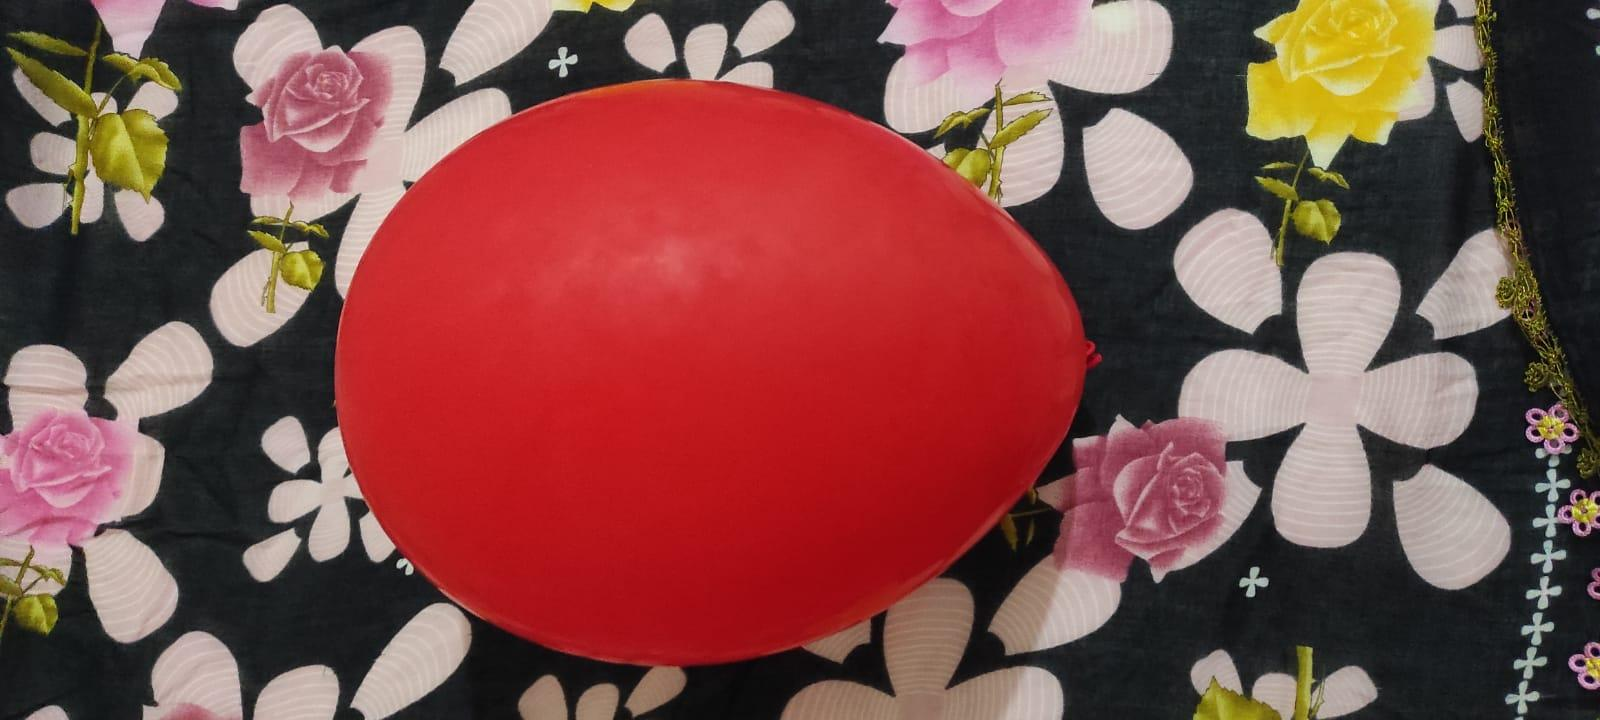red: (336, 72, 1101, 661)
